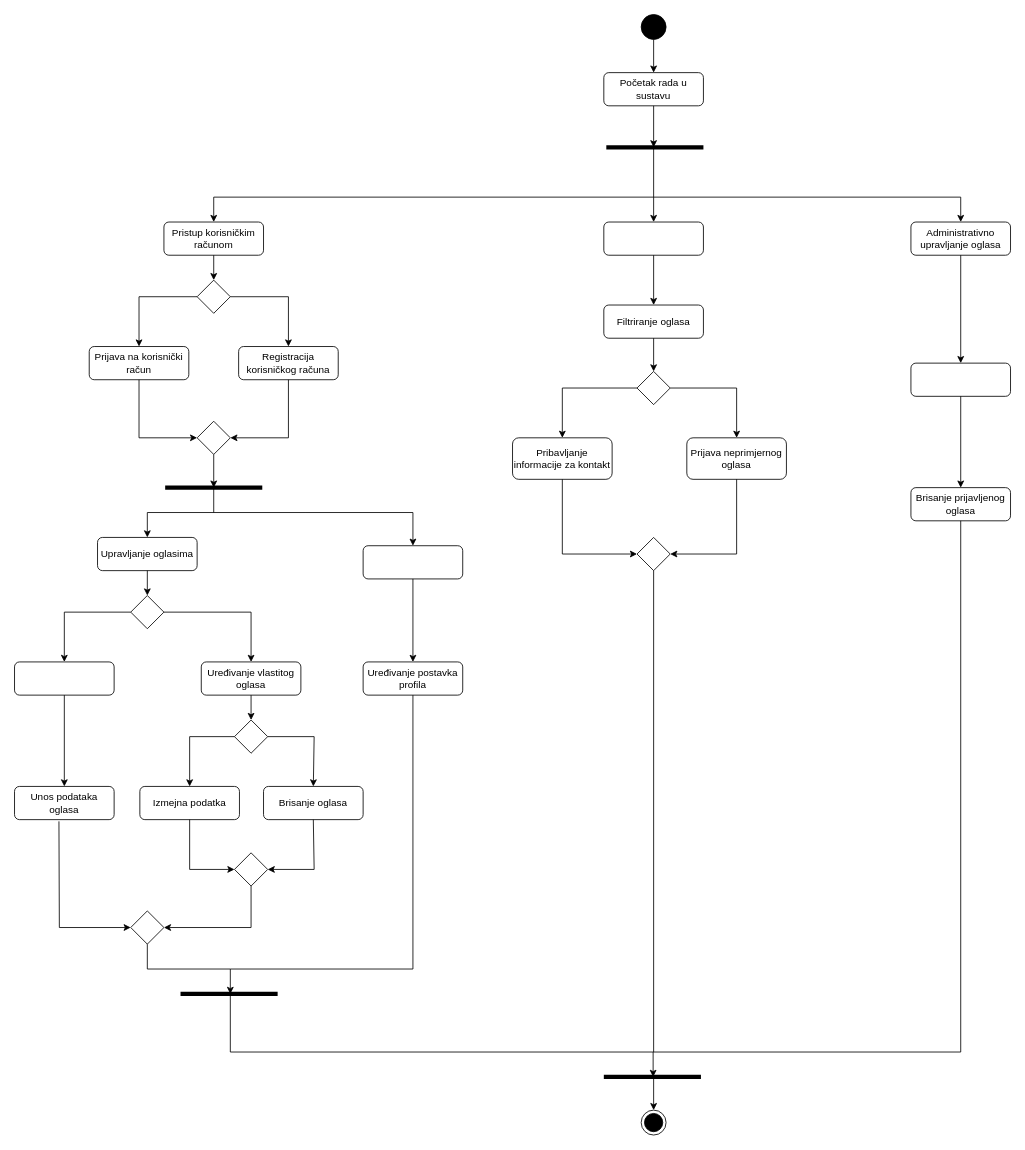
Some shapes in this 1025 by 1150 pixel diagram are drawn without their labels. Each missing label, with the centre of its shape:
"Pregled prijavljenih oglasa" goes at (x=960, y=379).
"Pretraživanje oglasa" goes at (x=653, y=238).
"Stvaranje novog oglasa" goes at (x=64, y=678).
"Upravljanje korisničkim računom" goes at (x=412, y=562).
